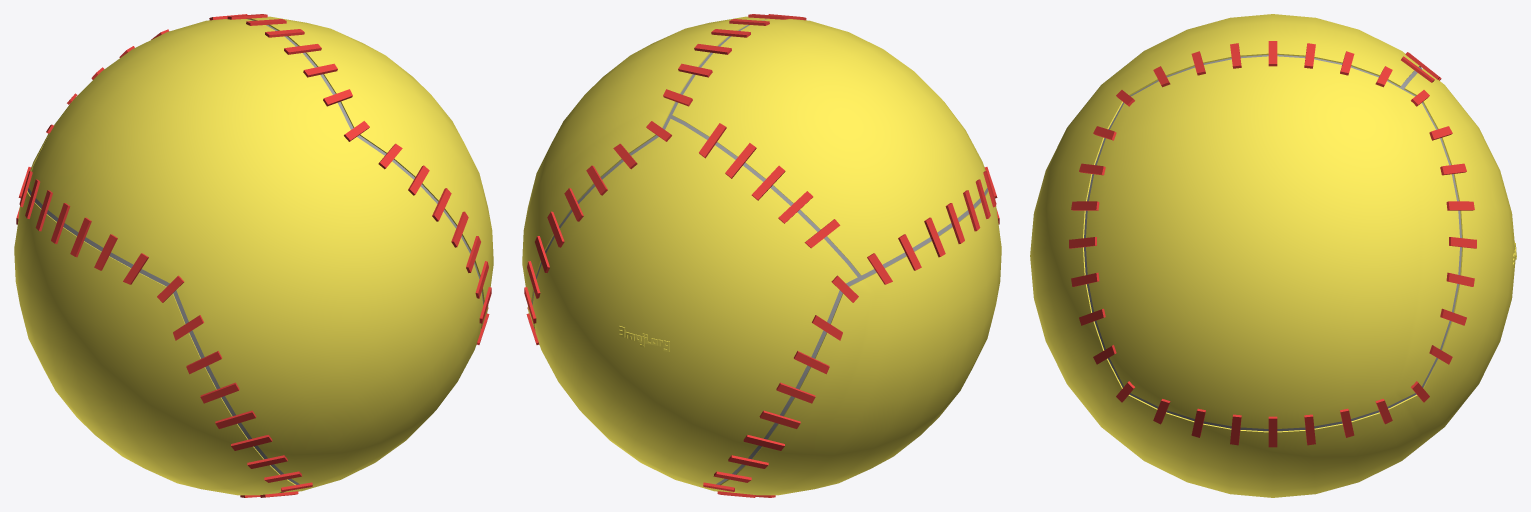
The model's file is softball.fbx.
The picture shows the model from 3 angles, left to right: view 1: azimuth 30°, elevation 25°; view 2: azimuth 150°, elevation 25°; view 3: azimuth 270°, elevation 25°; orthographic projection.
Parts seen in each view (by area): view 1: Roundcube.510; view 2: Roundcube.510; view 3: Roundcube.510.
Part boxes in pixels (x1,y1,x2,y2): Roundcube.510: (14,14,493,497); Roundcube.510: (522,14,1001,497); Roundcube.510: (1030,14,1516,497).
Size of the model in its own units: 220 by 222 by 220.
Materials: 1 (1 with a texture image).
